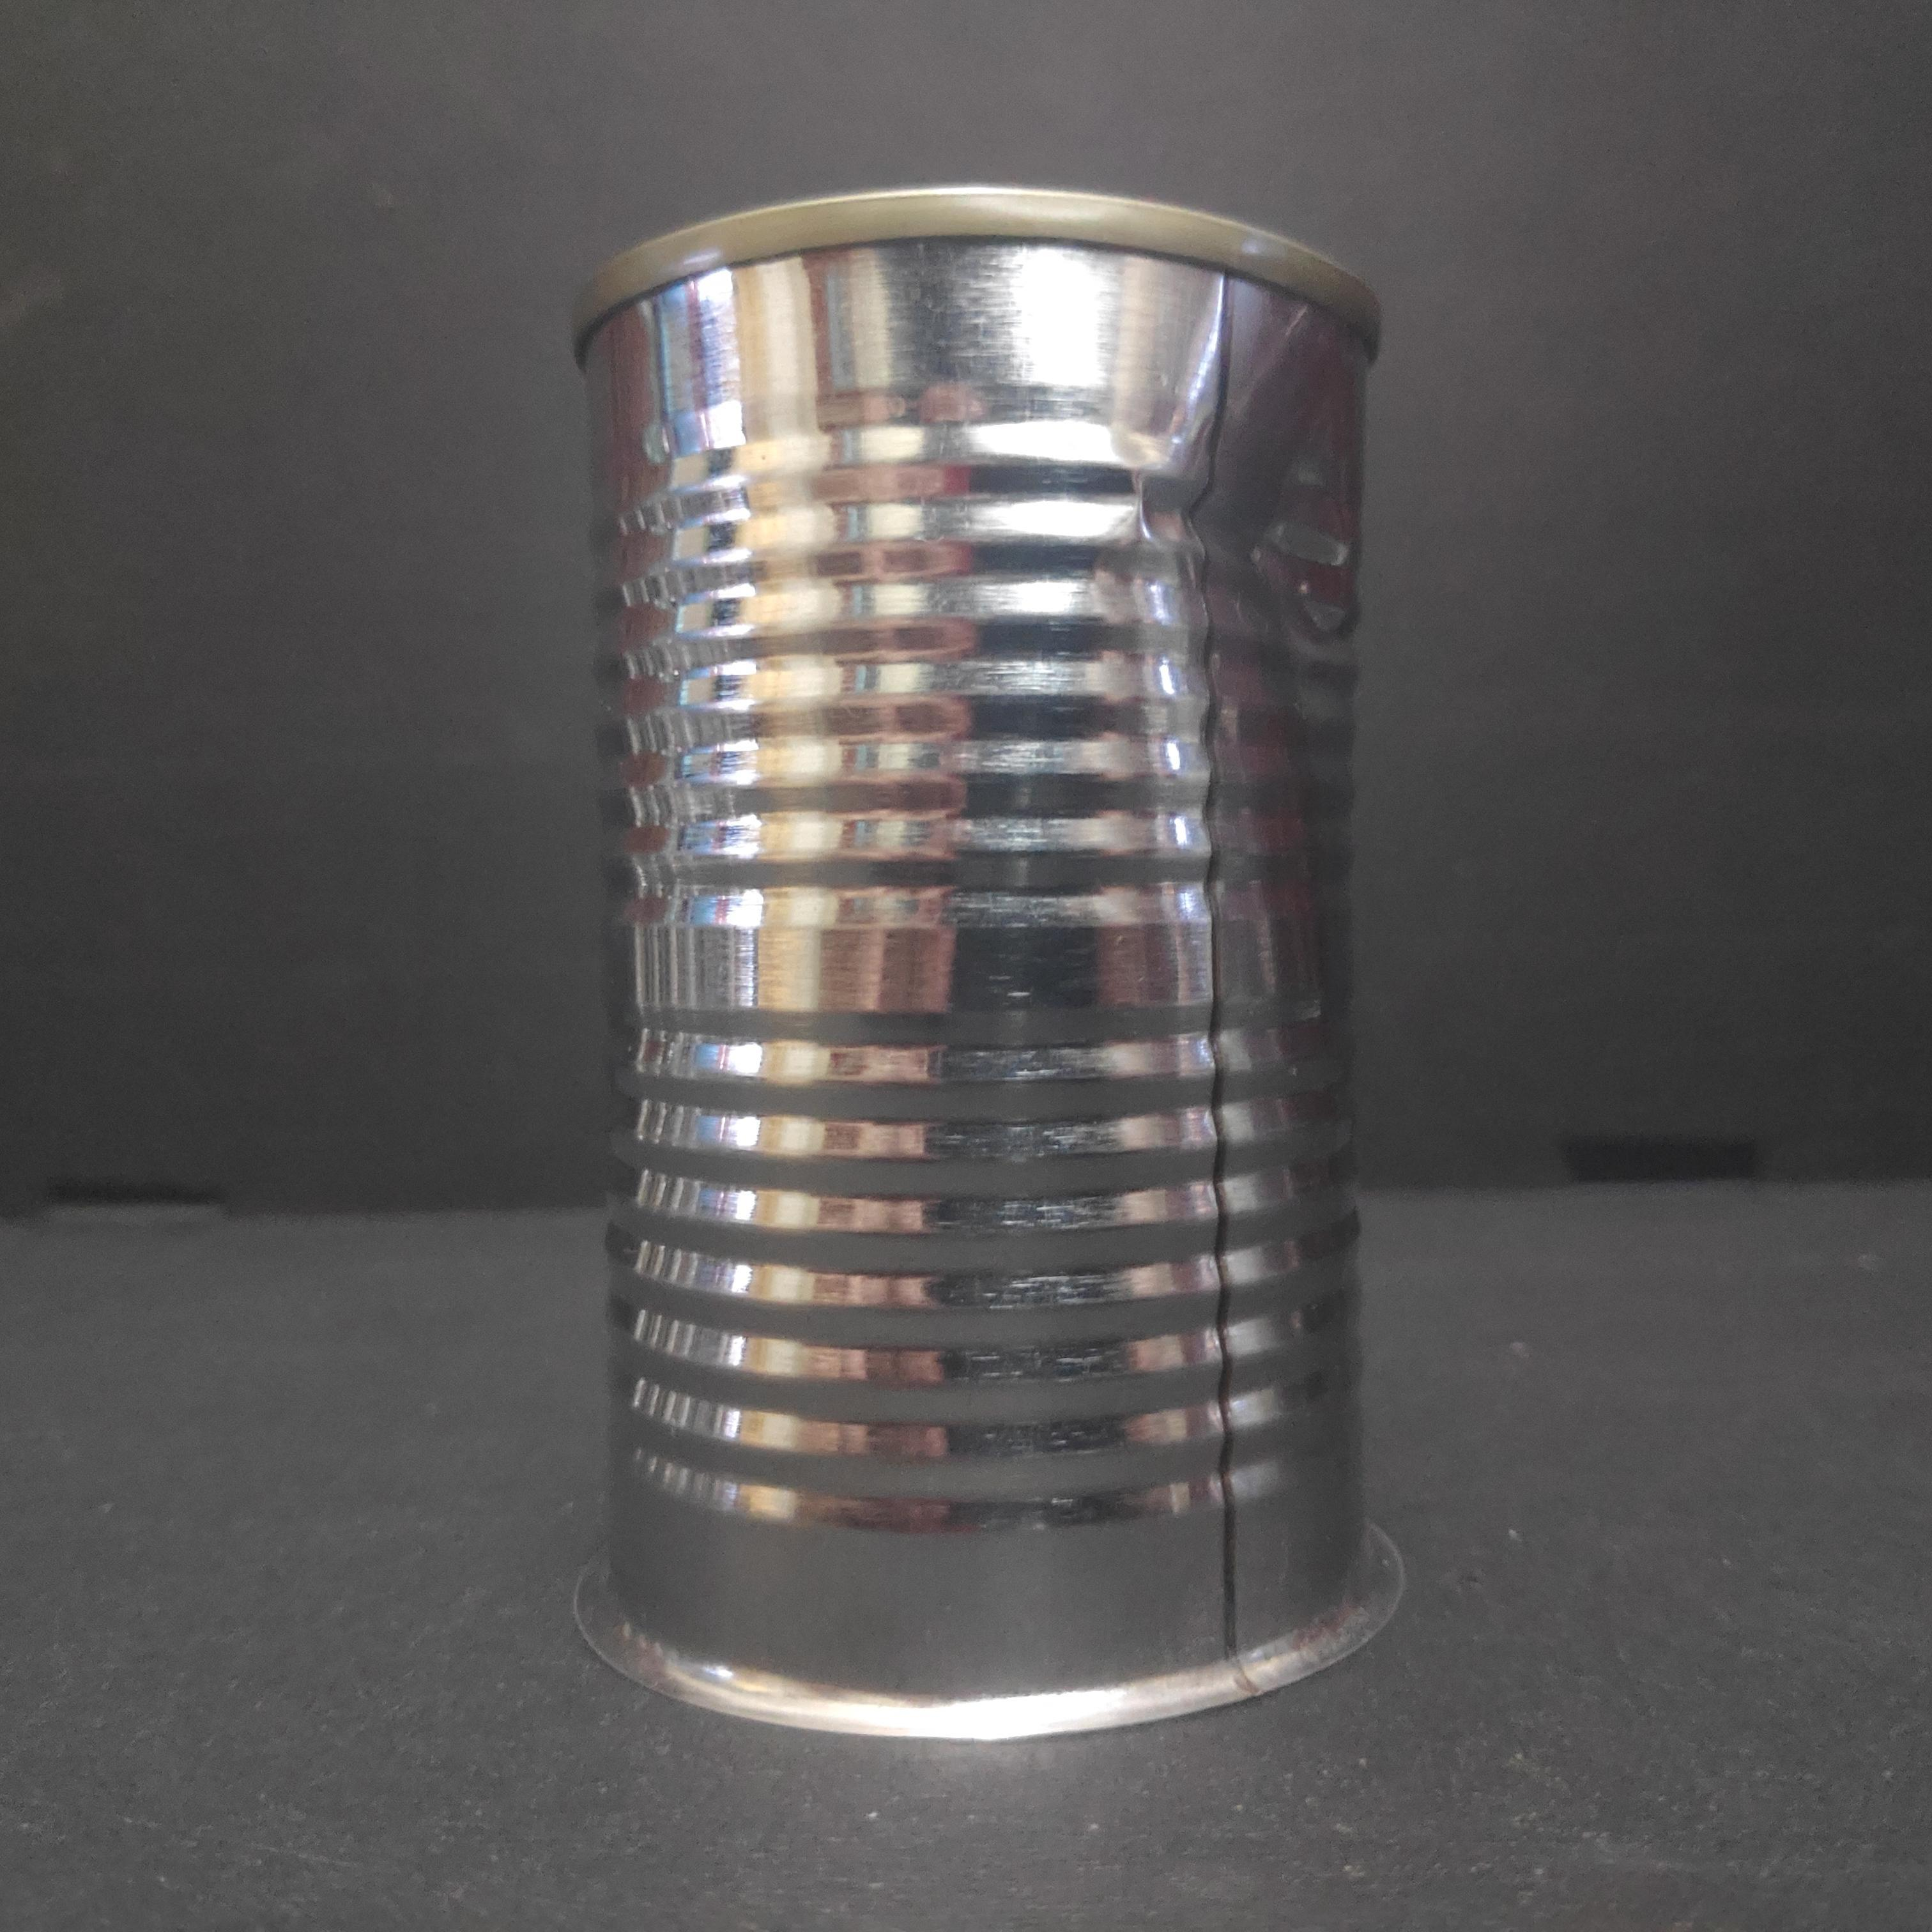Dented: (543, 163, 1437, 1812)
